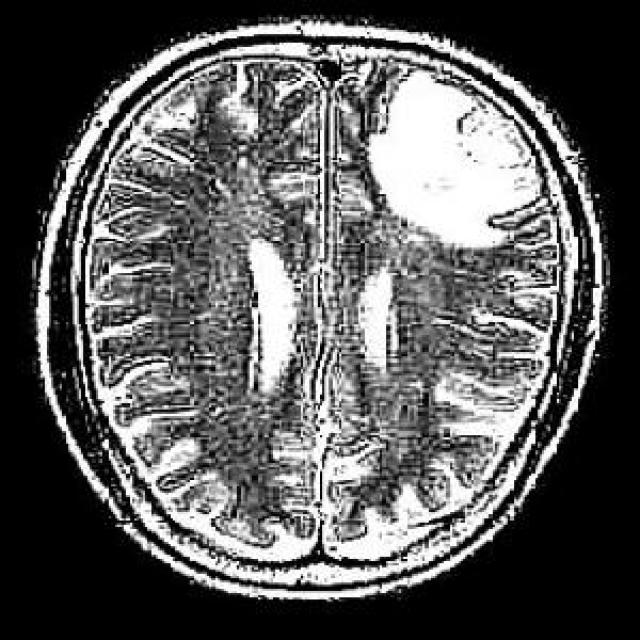Tumor: (369, 69, 523, 248)
